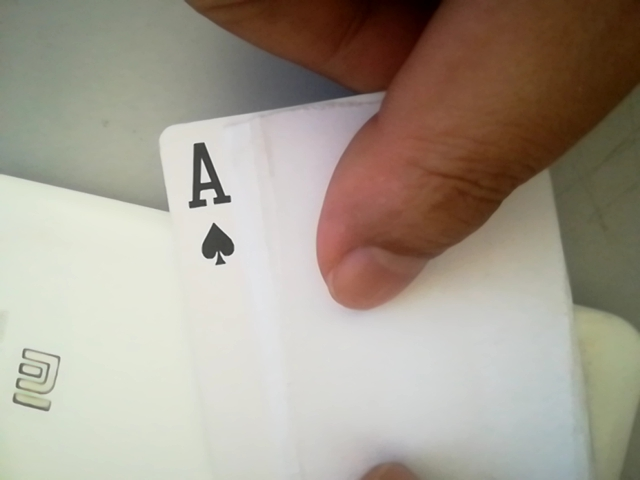ht a: (174, 127, 245, 276)
